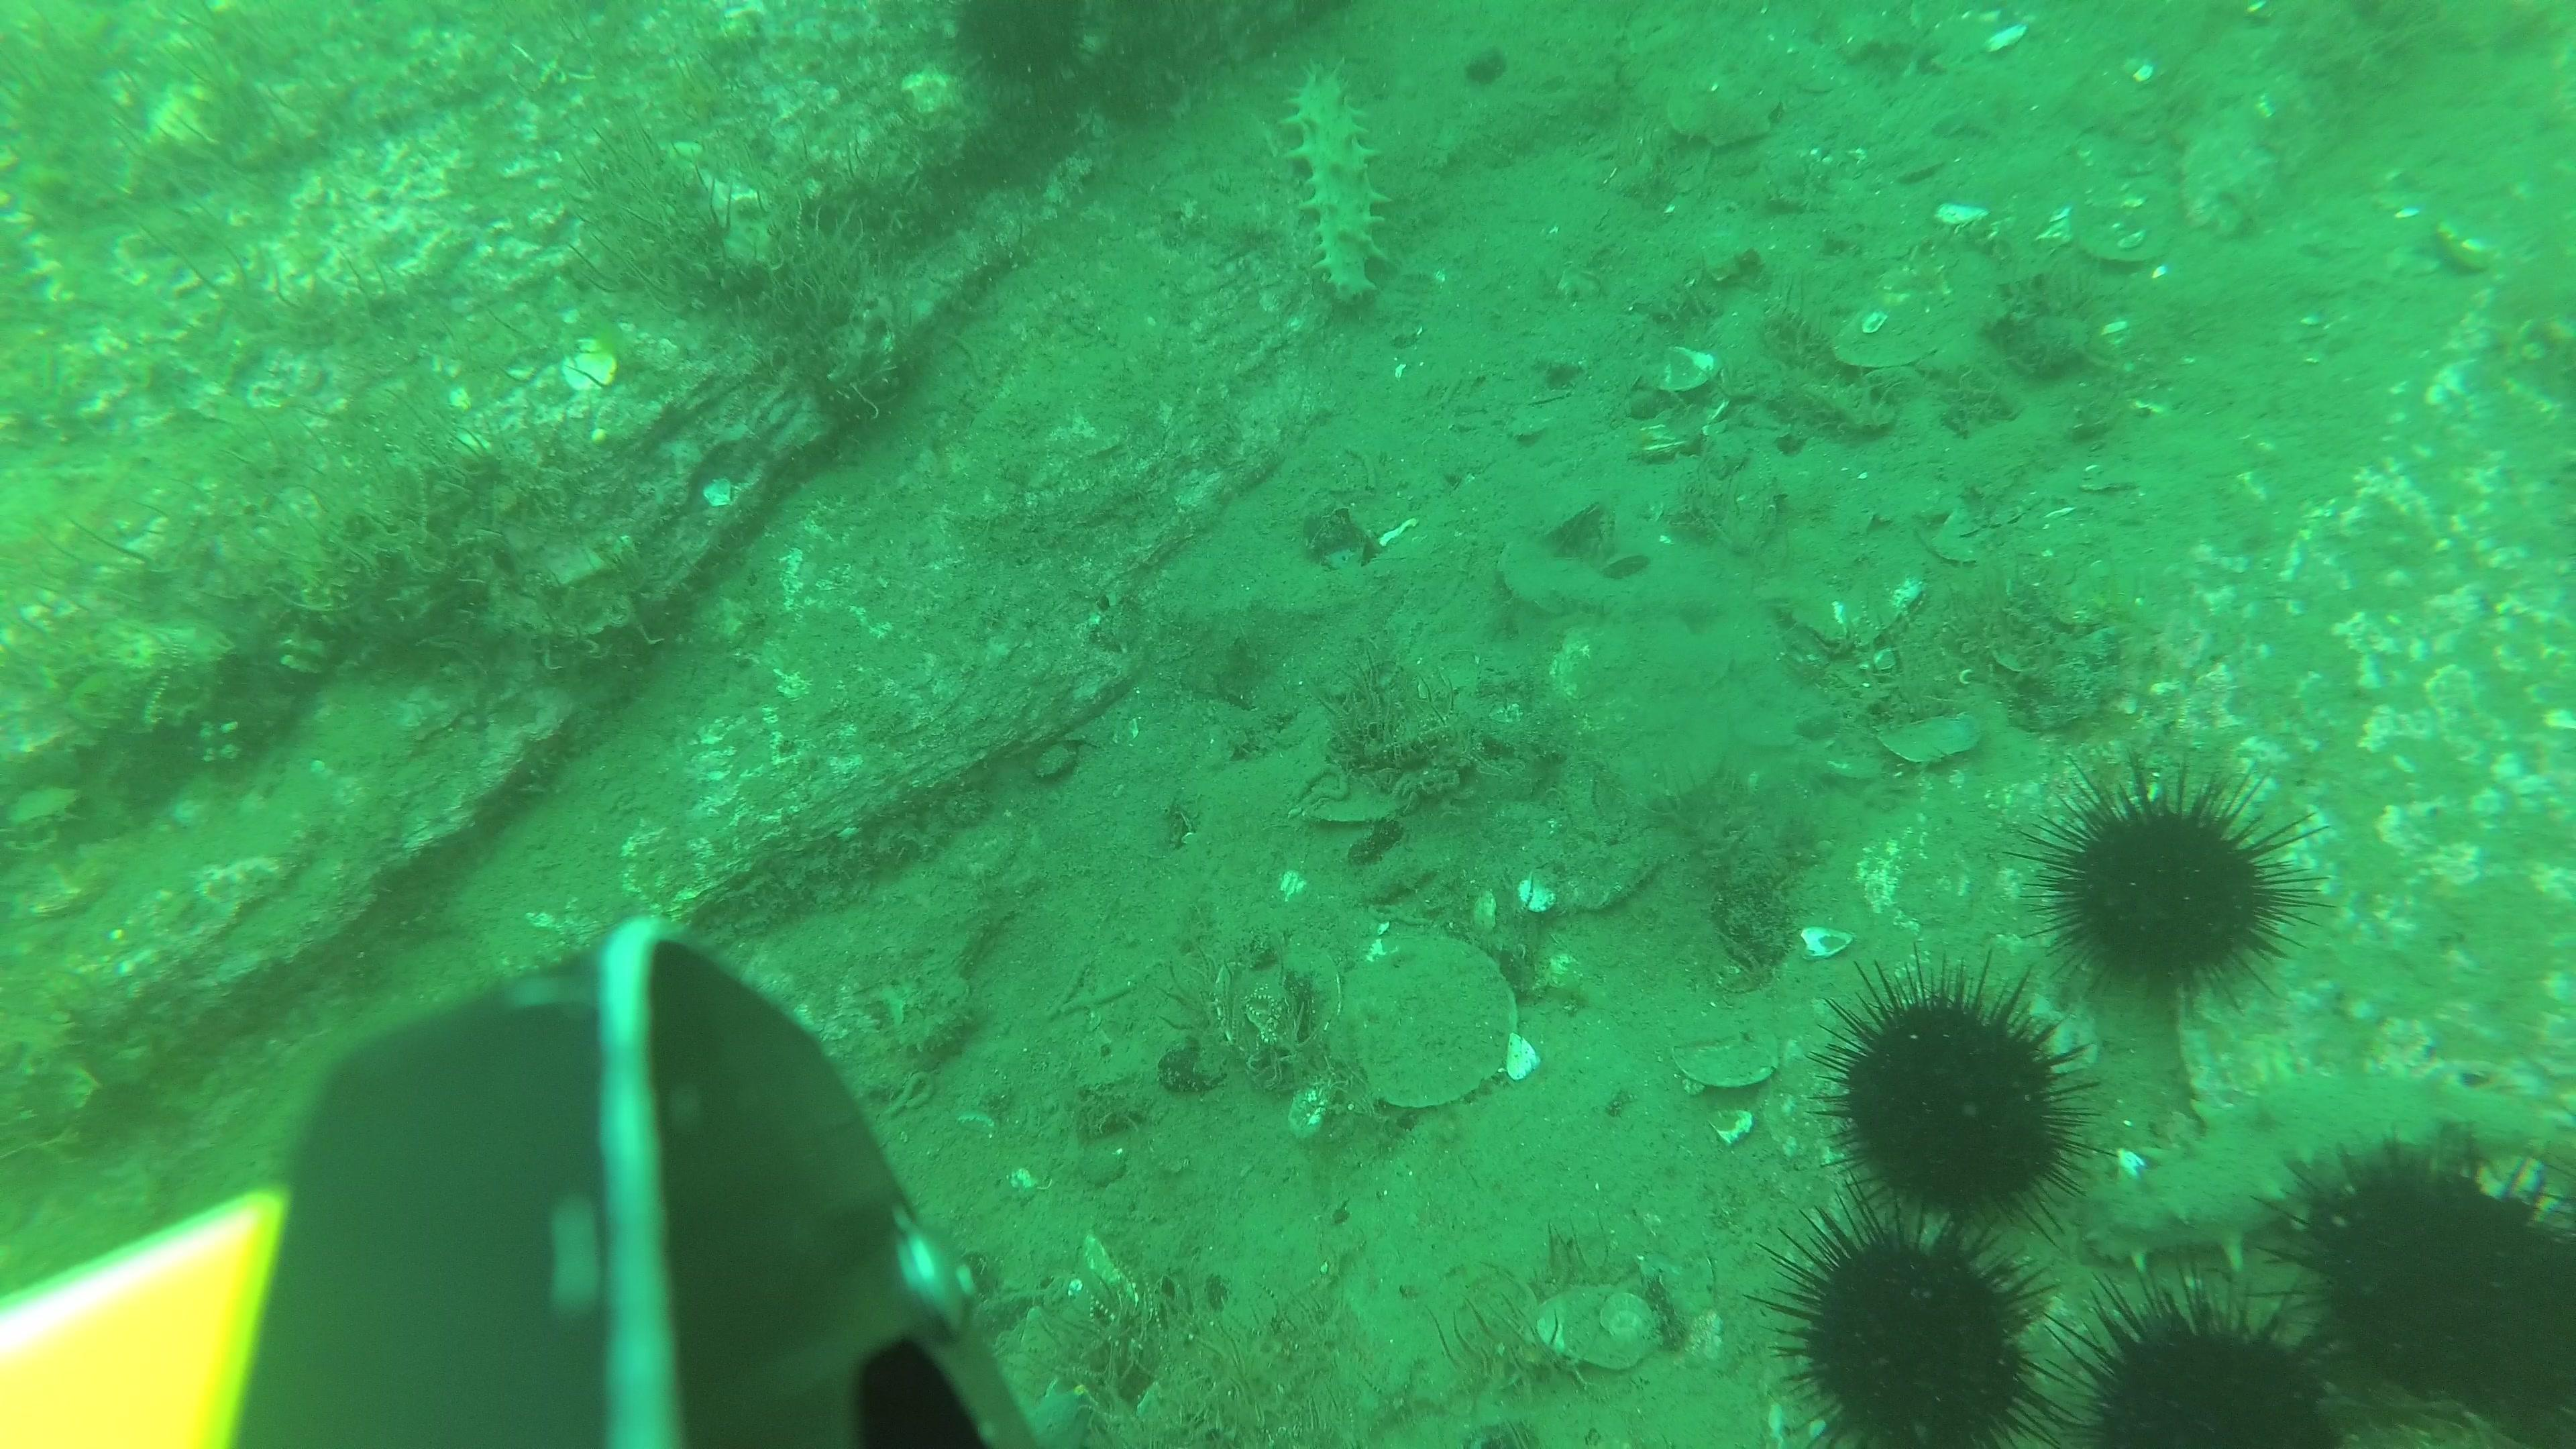echinus: (1813, 941, 2114, 1256), (1744, 1175, 2065, 1449), (2006, 747, 2332, 1014), (2263, 1132, 2551, 1410), (2026, 1269, 2369, 1449), (2484, 1207, 2576, 1449), (950, 0, 1108, 106)
holothurian: (2084, 1063, 2548, 1274), (1277, 51, 1392, 311)
scallop: (1352, 934, 1518, 1109), (1537, 1284, 1661, 1375), (1672, 67, 1780, 147), (1672, 1017, 1778, 1088)
